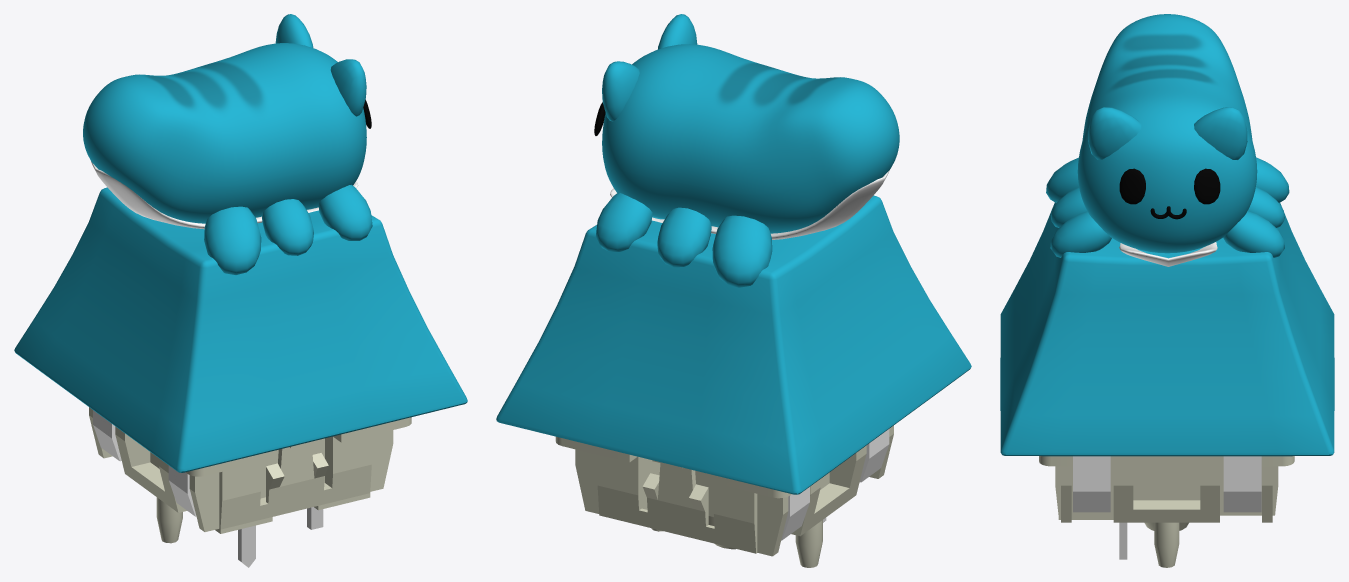
File: keycap.glb
The picture shows the model from 3 angles, left to right: view 1: azimuth 30°, elevation 25°; view 2: azimuth 150°, elevation 25°; view 3: azimuth 270°, elevation 25°; orthographic projection. The views are drawn at different scales.
Visible parts, largest first — view 1: Cube.012, Low Bottom PCB LED, Low Top PCB LED, Low Wire PCB LED; view 2: Cube.012, Low Bottom PCB LED, Low Top PCB LED; view 3: Cube.012, Low Bottom PCB LED, Low Top PCB LED.
Part boxes in pixels (left/top/right/bottom): Cube.012: left=14, top=14, right=467, bottom=472; Low Bottom PCB LED: left=89, top=407, right=411, bottom=543; Low Top PCB LED: left=93, top=410, right=196, bottom=516; Low Wire PCB LED: left=238, top=507, right=323, bottom=567; Cube.012: left=496, top=14, right=971, bottom=494; Low Bottom PCB LED: left=555, top=425, right=893, bottom=567; Low Top PCB LED: left=781, top=429, right=889, bottom=540; Cube.012: left=1000, top=14, right=1334, bottom=456; Low Bottom PCB LED: left=1039, top=456, right=1294, bottom=567; Low Top PCB LED: left=1073, top=456, right=1261, bottom=512.
Bounding box in the file's own units: 2.33 × 3.54 × 2.3.
6 materials, 1 textured.
